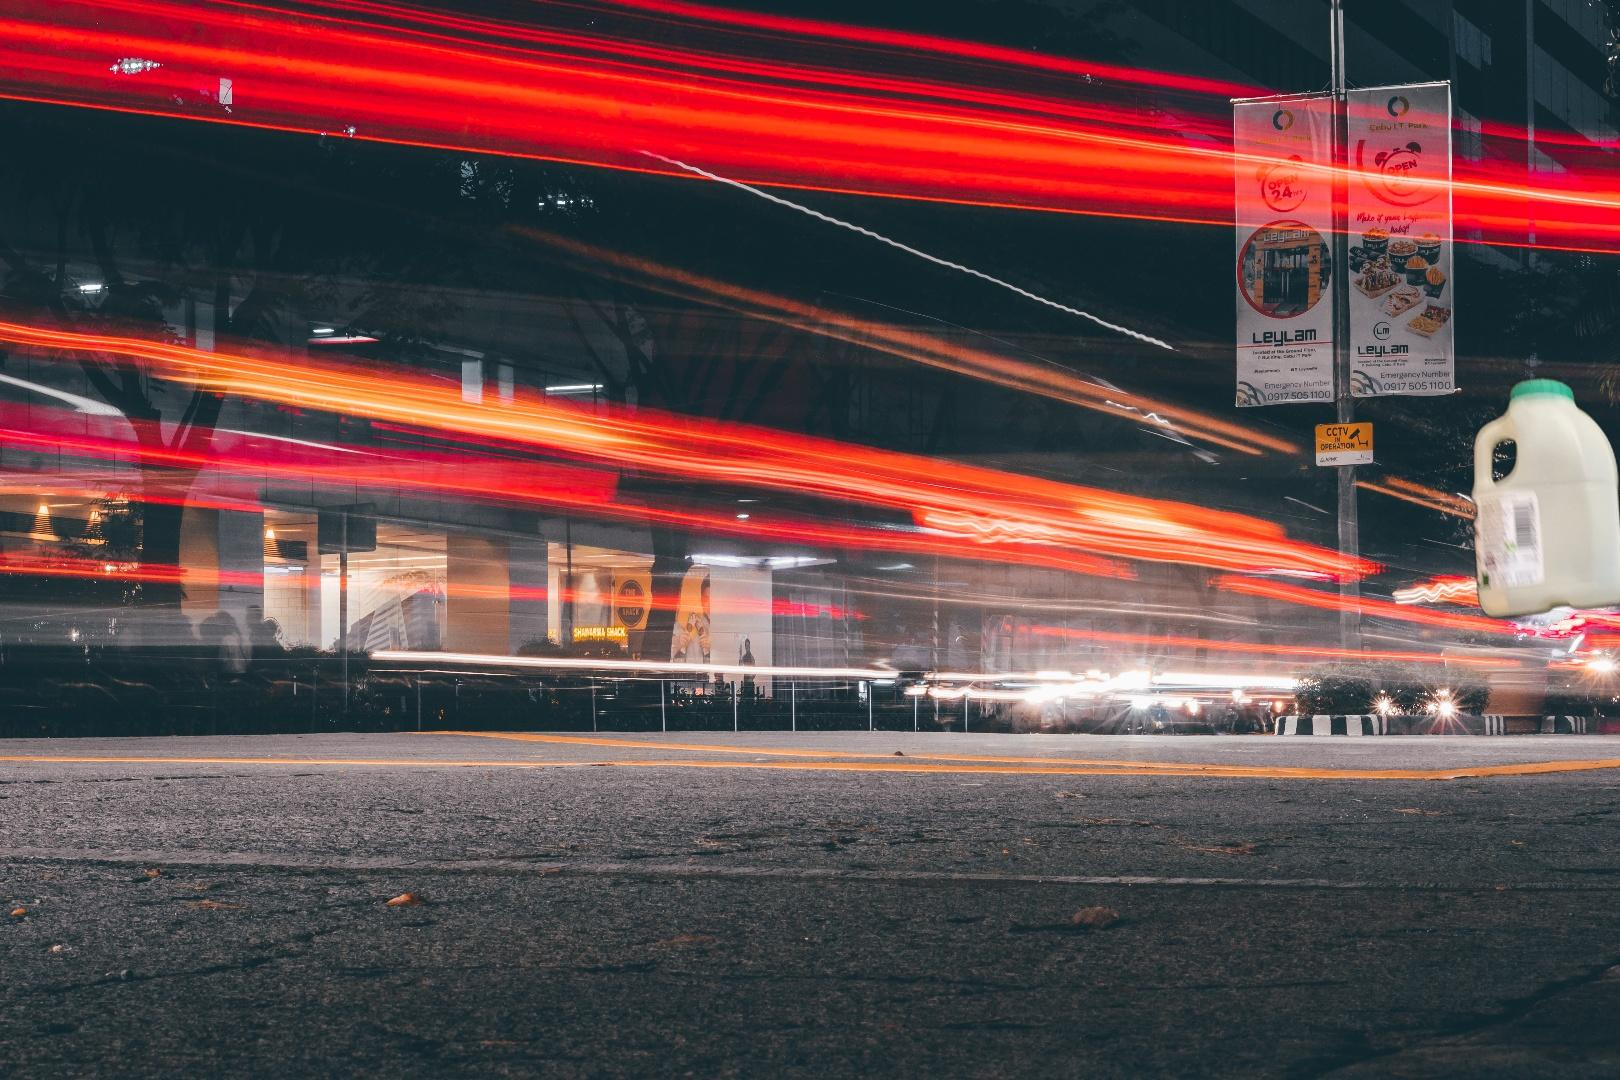plastic-bottles: (1467, 371, 1620, 626)
